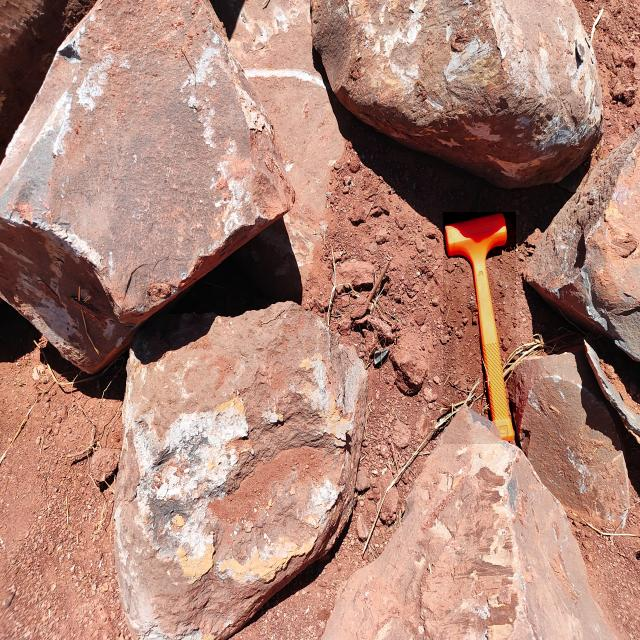Orange_hammer: (443, 212, 516, 444)
